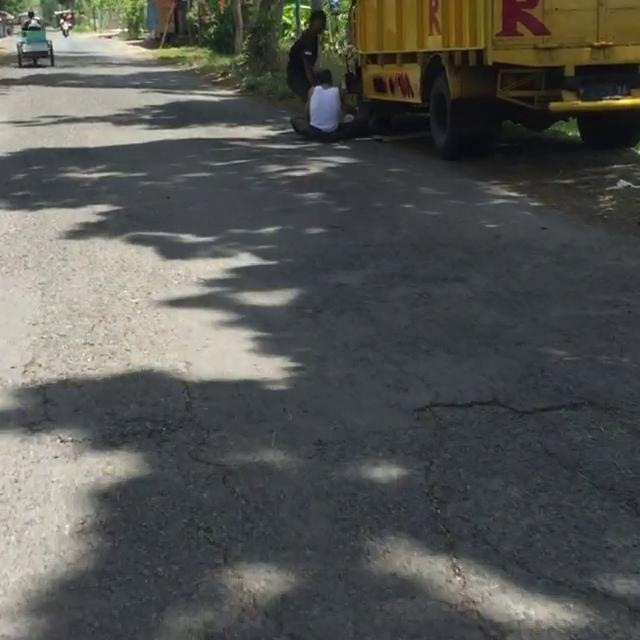retak_kulit_buaya: (502, 457, 640, 640)
retak_memanjang: (401, 362, 640, 431)
